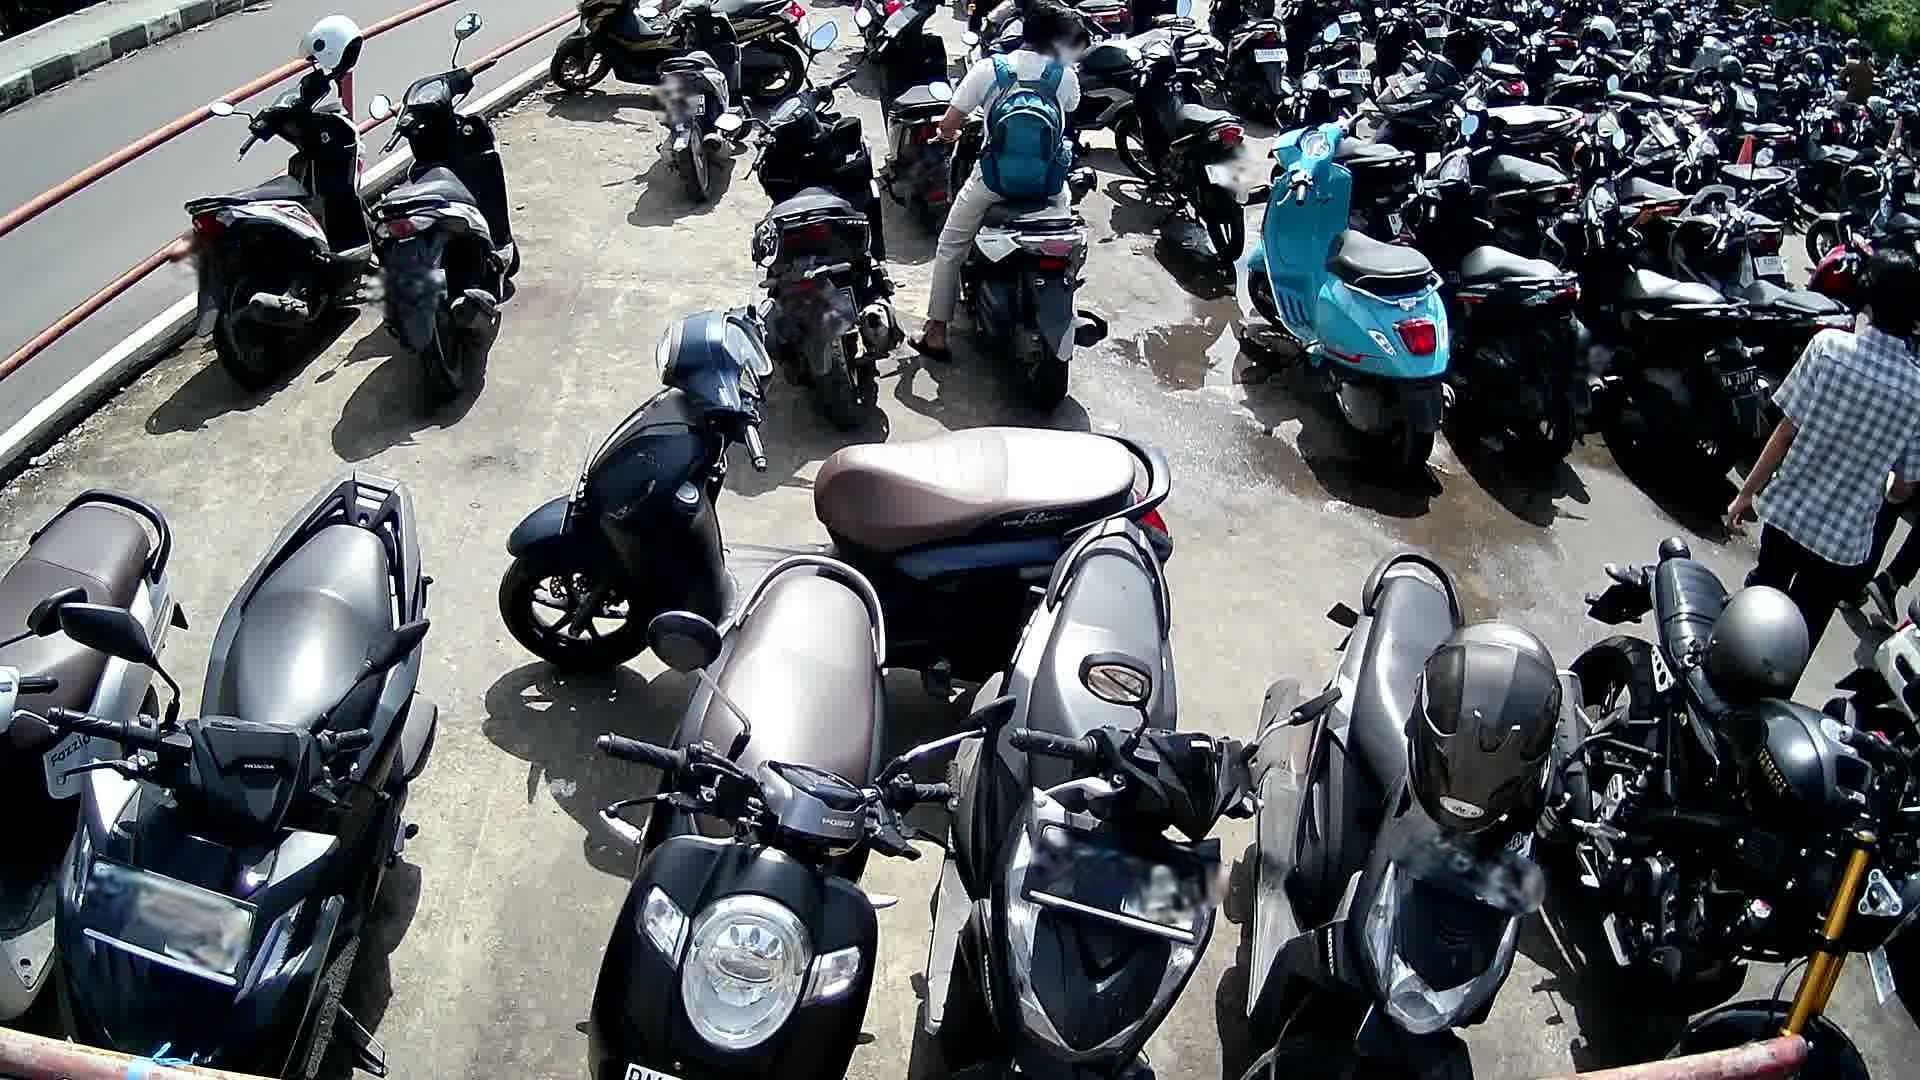motorcycle: (500, 299, 1179, 680), (47, 469, 440, 1080), (926, 517, 1304, 1080), (588, 553, 969, 1080), (1553, 535, 1920, 1080), (1247, 549, 1586, 1080), (0, 483, 187, 1022), (1246, 108, 1458, 484), (716, 20, 910, 430), (1536, 164, 1775, 487), (1395, 116, 1605, 476), (179, 63, 380, 392), (924, 78, 1114, 415), (368, 9, 524, 411), (1658, 181, 1857, 363)
